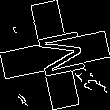M_W: (26, 27, 84, 83)
